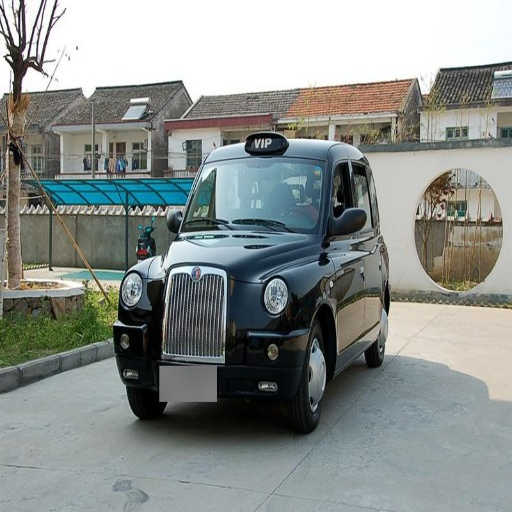front_bumper: (161, 317, 307, 399)
front_glass: (180, 142, 326, 233)
front_left_door: (326, 157, 365, 348)
